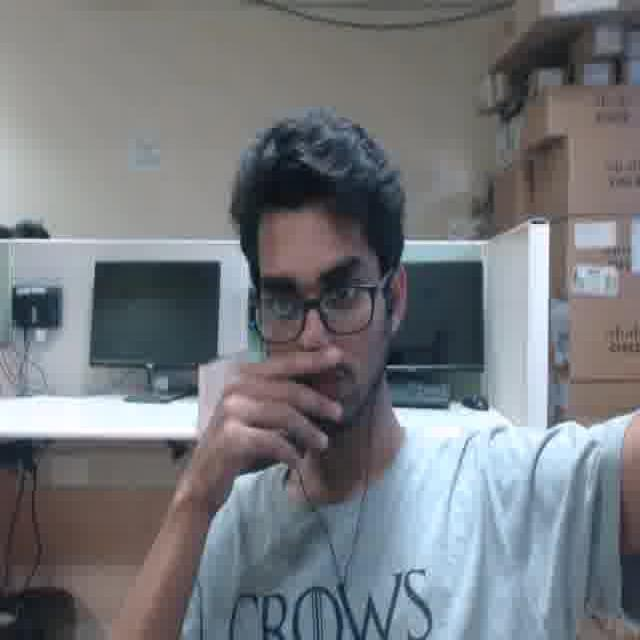Frustration: (251, 202, 384, 438)
